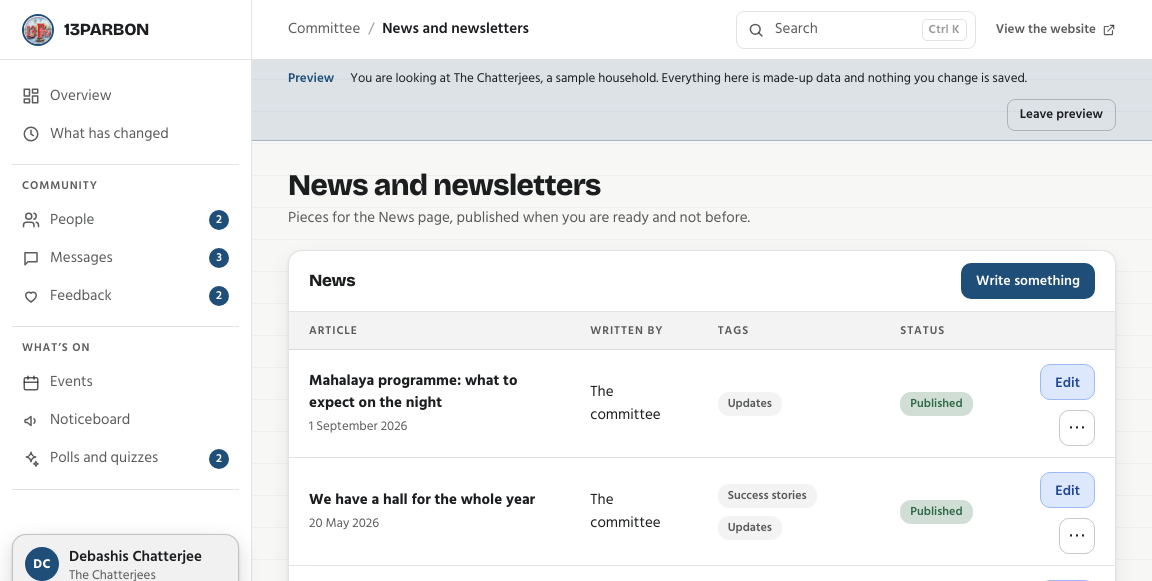
Test case: writing a piece › will not write one with nothing in it, and says what is missing
This screenshot has width=1152, height=581.
Click the button "Write something" at coordinates (1028, 281), box [961,263,1095,299]
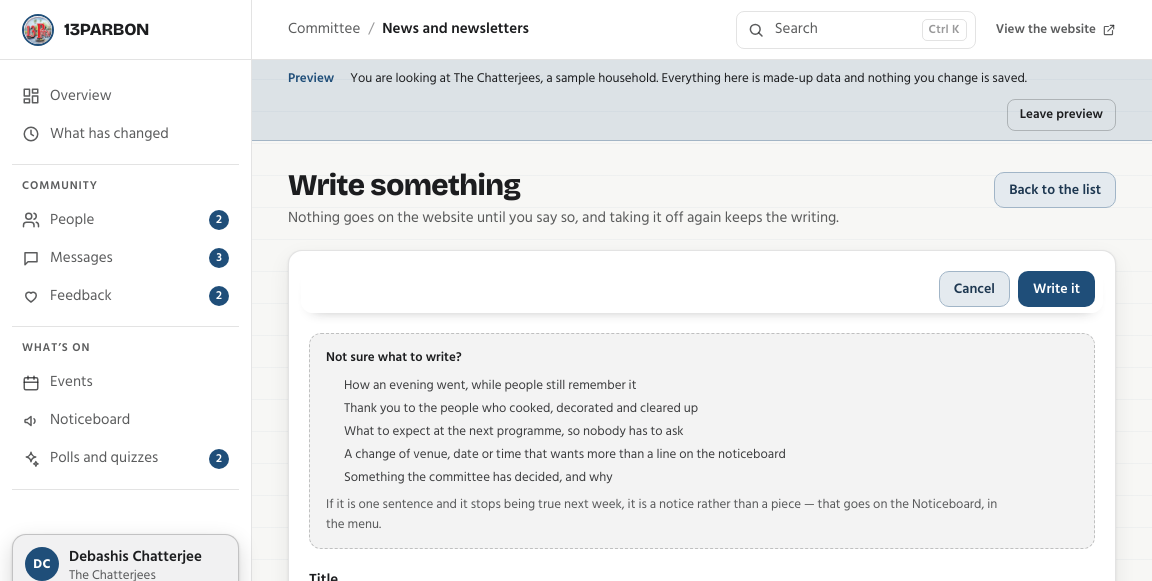
Click the button "Write it" at coordinates (1056, 289), box [1018,271,1095,307]
(page scrolled)
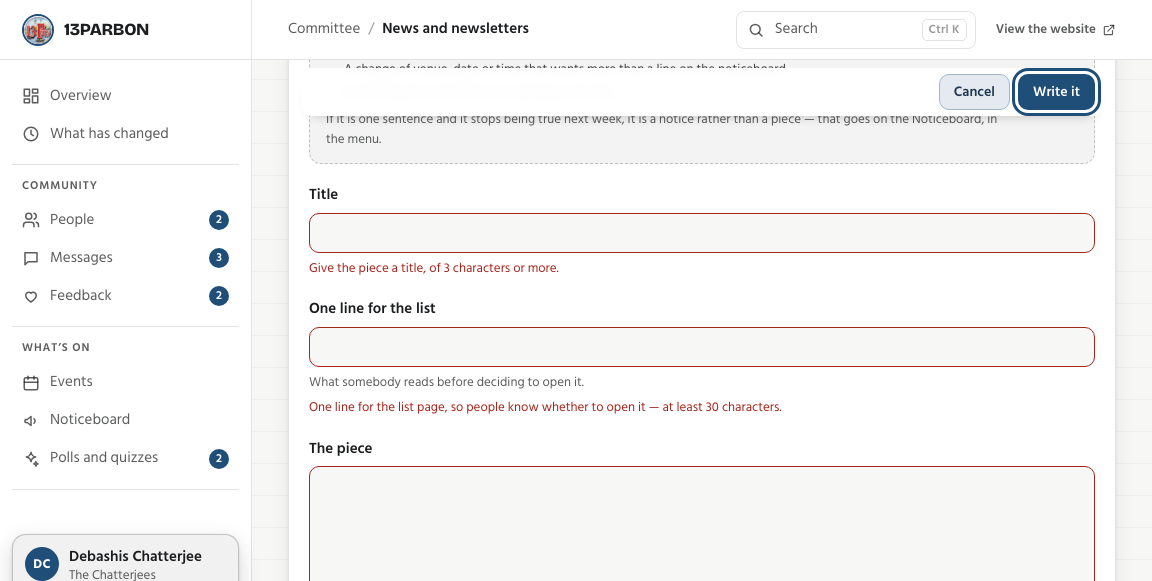
Check: the text "Give the piece a title, of 3 characters or more." is shown, box [309,257,559,279]
